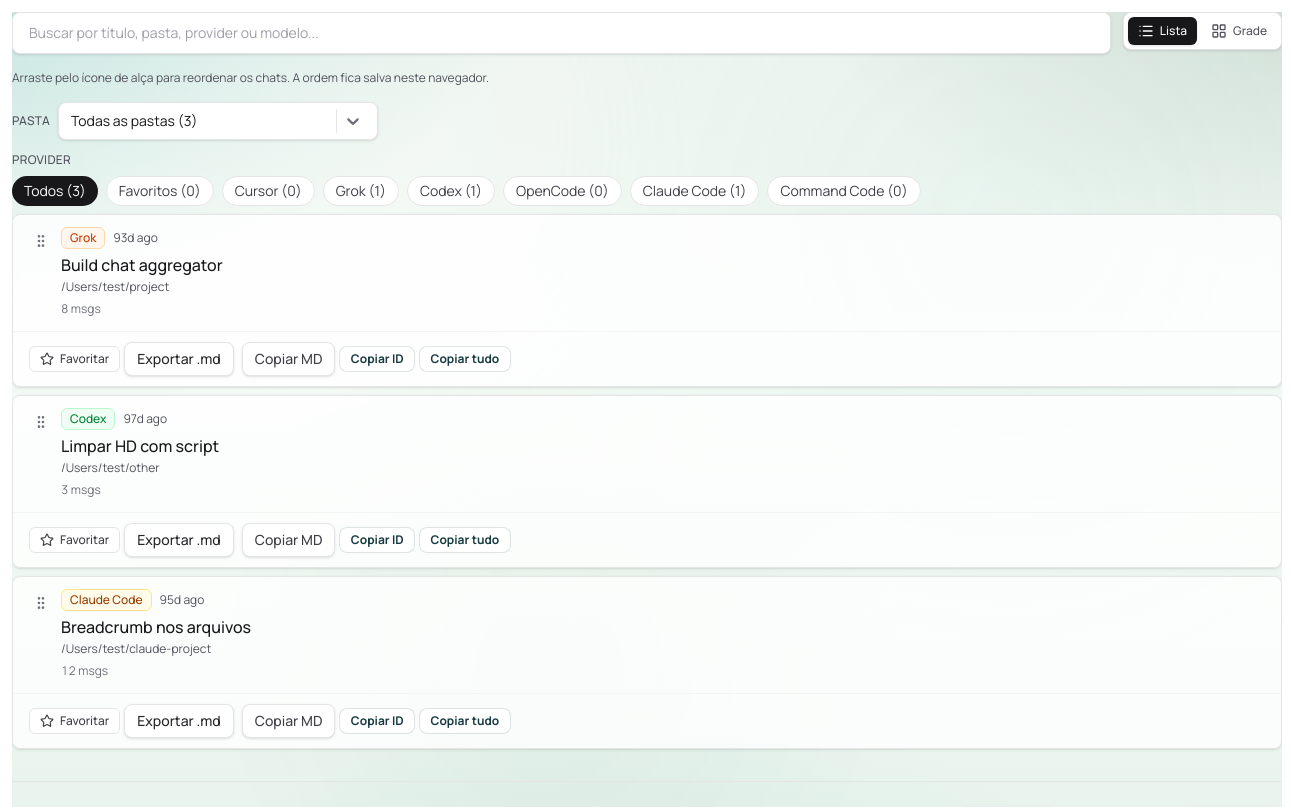
Test case: ChatList › filters chats by search query via backend
Type "limpar hd" into the search field named "Buscar chats" at (561, 33), box [12,12,1111,54]
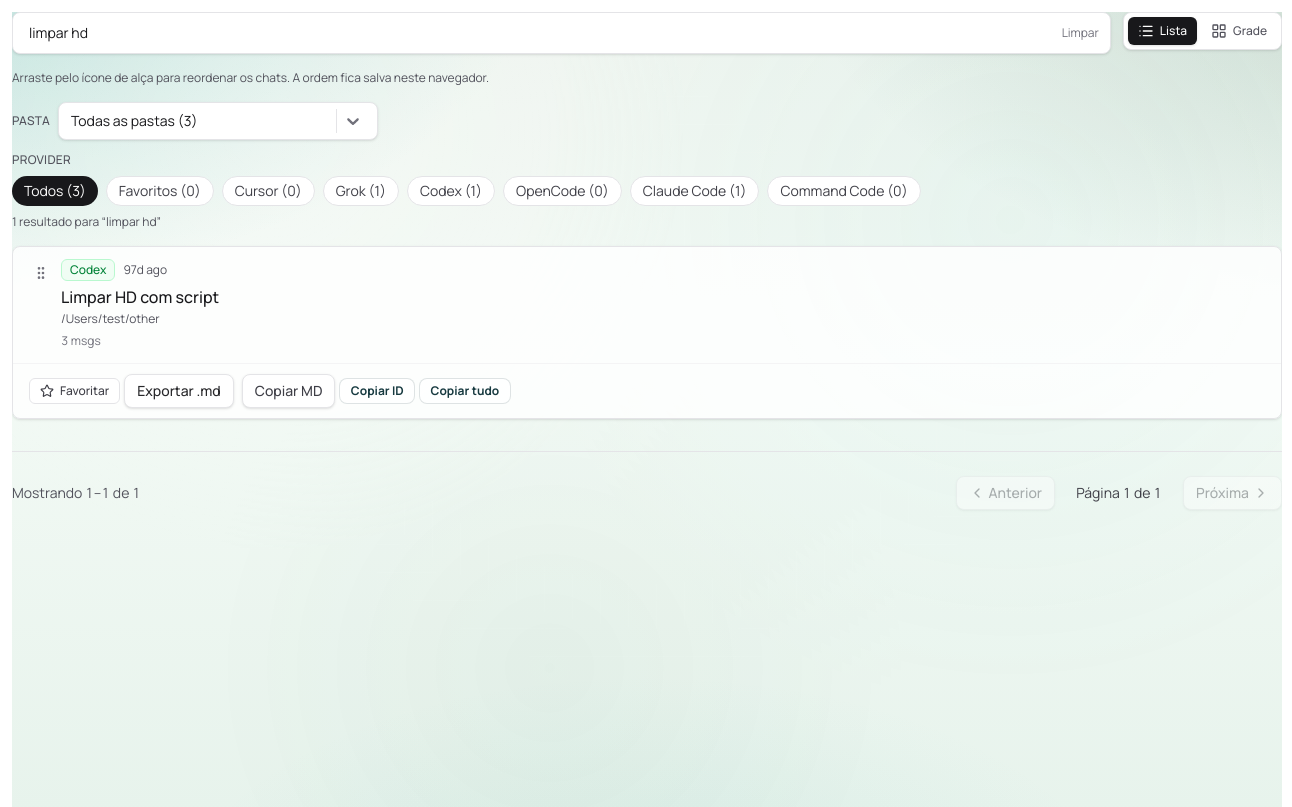
Expected: the text "Limpar HD com script" is shown, [61,285,219,309]
Result: the link "Build chat aggregator" is gone
Result: the text "1 resultado para “limpar hd”" is shown at [12,213,161,230]
